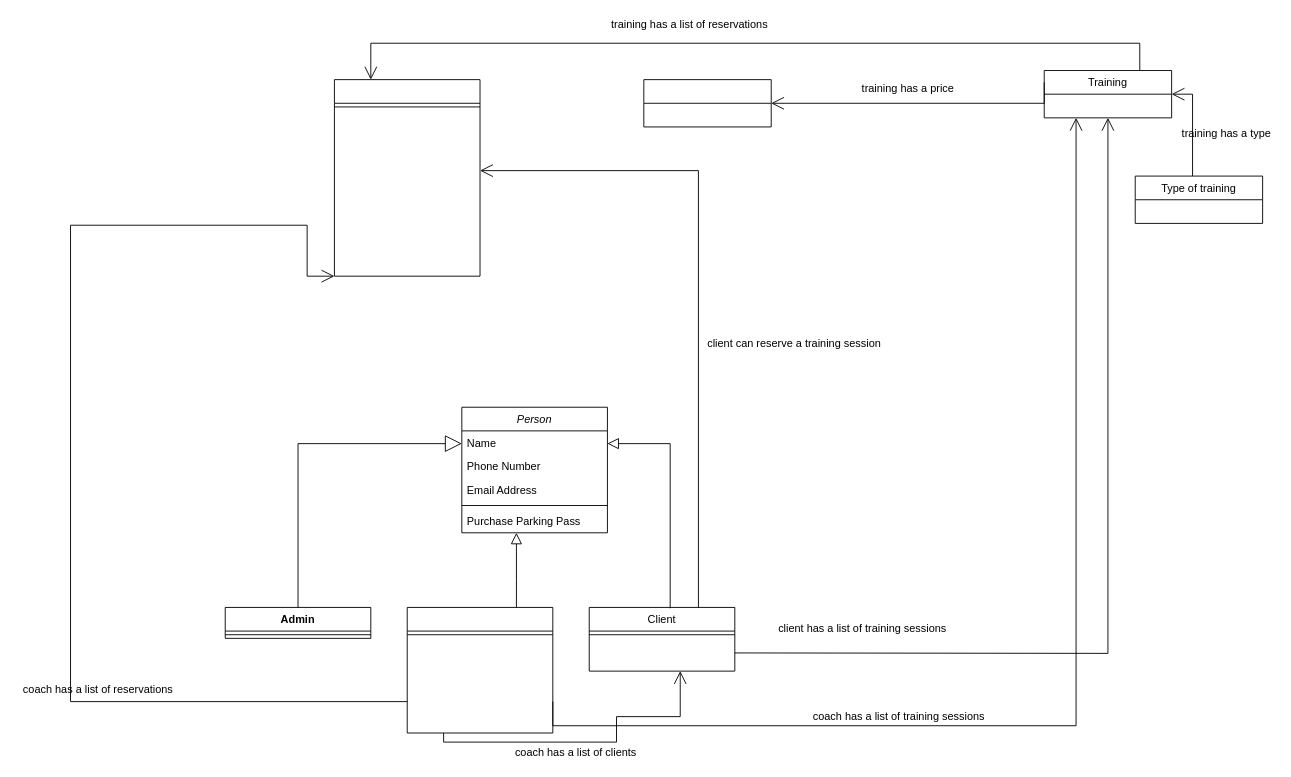
Some shapes in this 1291 by 777 pixel diagram are drawn without their labels. The centre of each missing label's shape, as x and y in pixels:
Coach: the point at 479,670
Pricelist: the point at 707,103
Reservation: the point at 407,177
